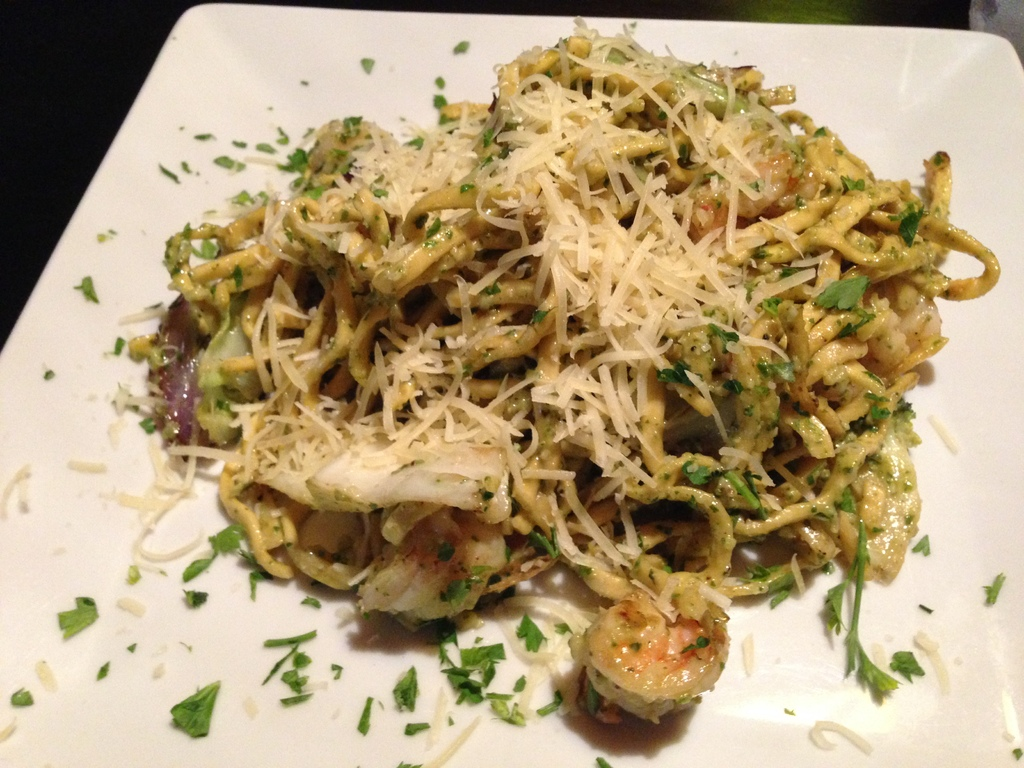pasta: (131, 33, 1000, 664)
